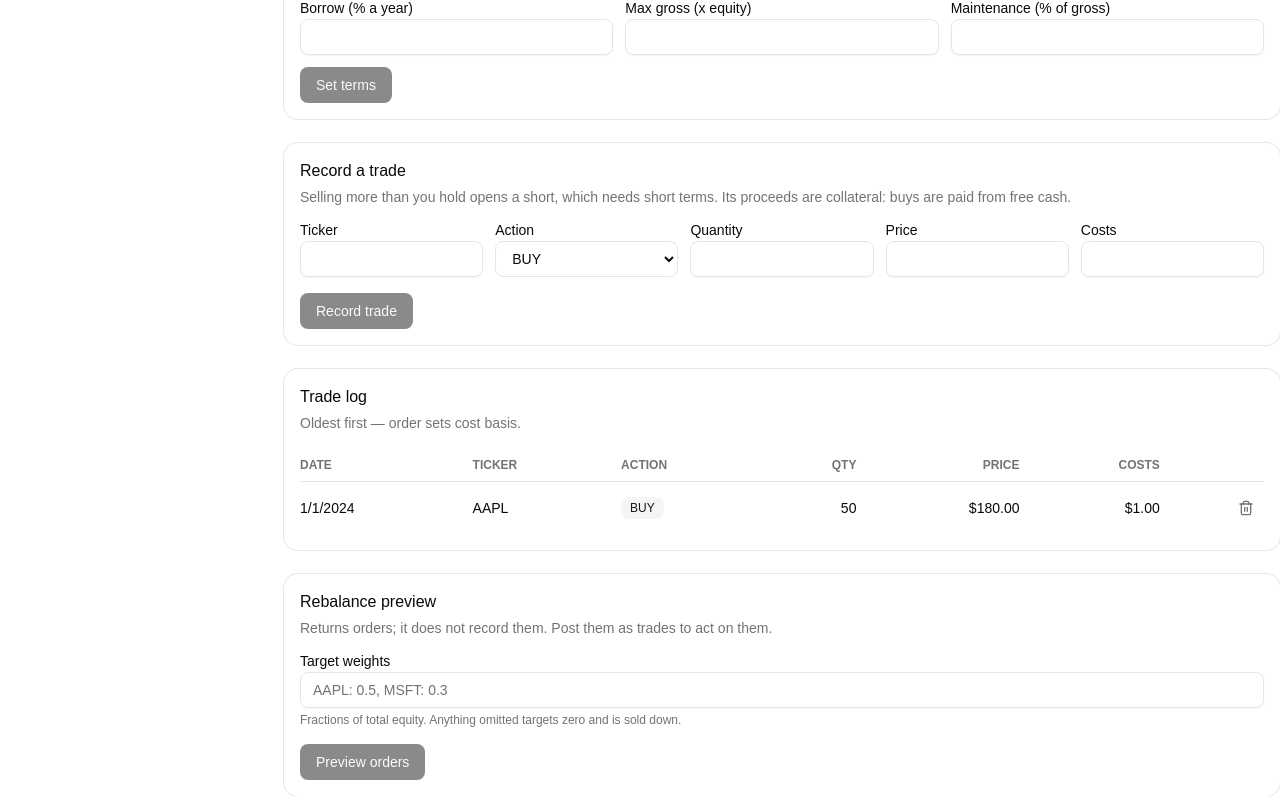
Test: PortfoliosPage — rebalancing › surfaces a rejected weight set
(page scrolled)
Type "A: 0.7, B: 0.7" into the field labelled "Target weights" at (782,690), box left=300, top=672, right=1264, bottom=708
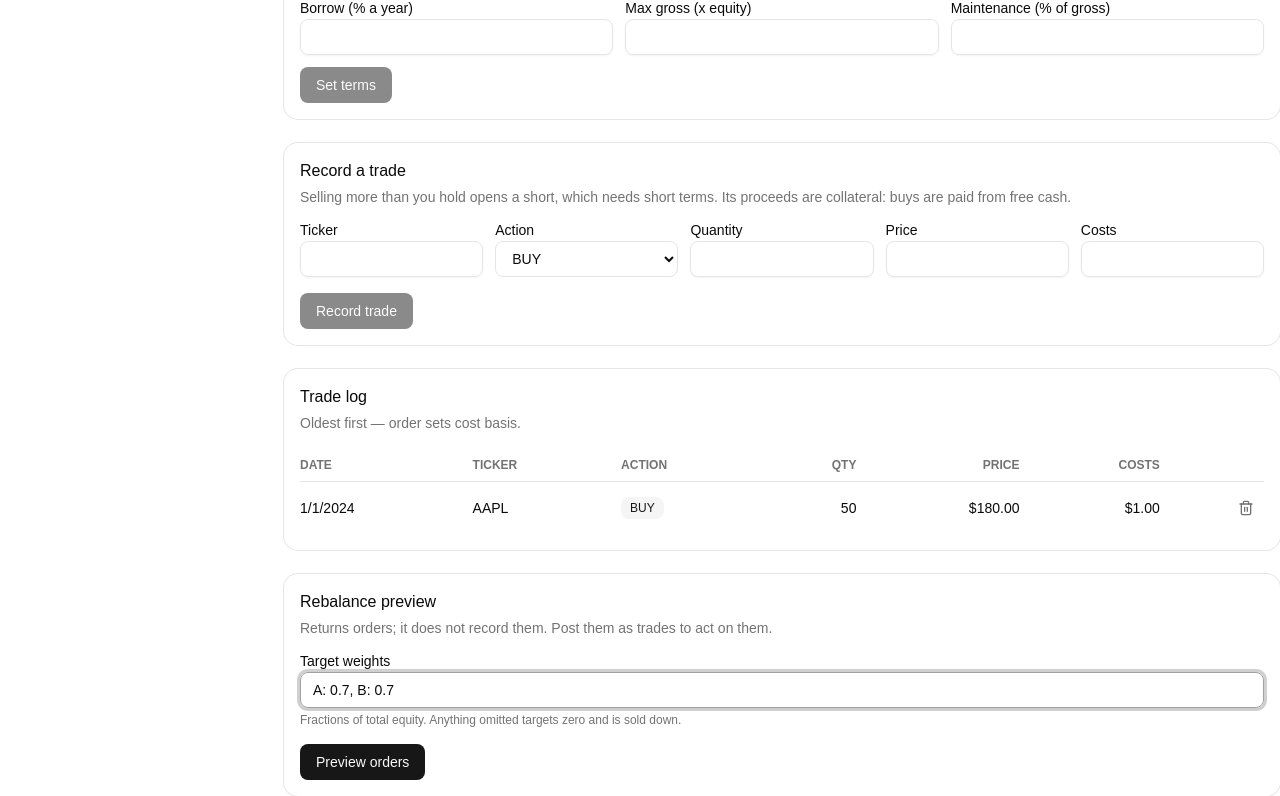
Click the button "Preview orders" at (363,762), box left=300, top=744, right=425, bottom=780
(page scrolled)
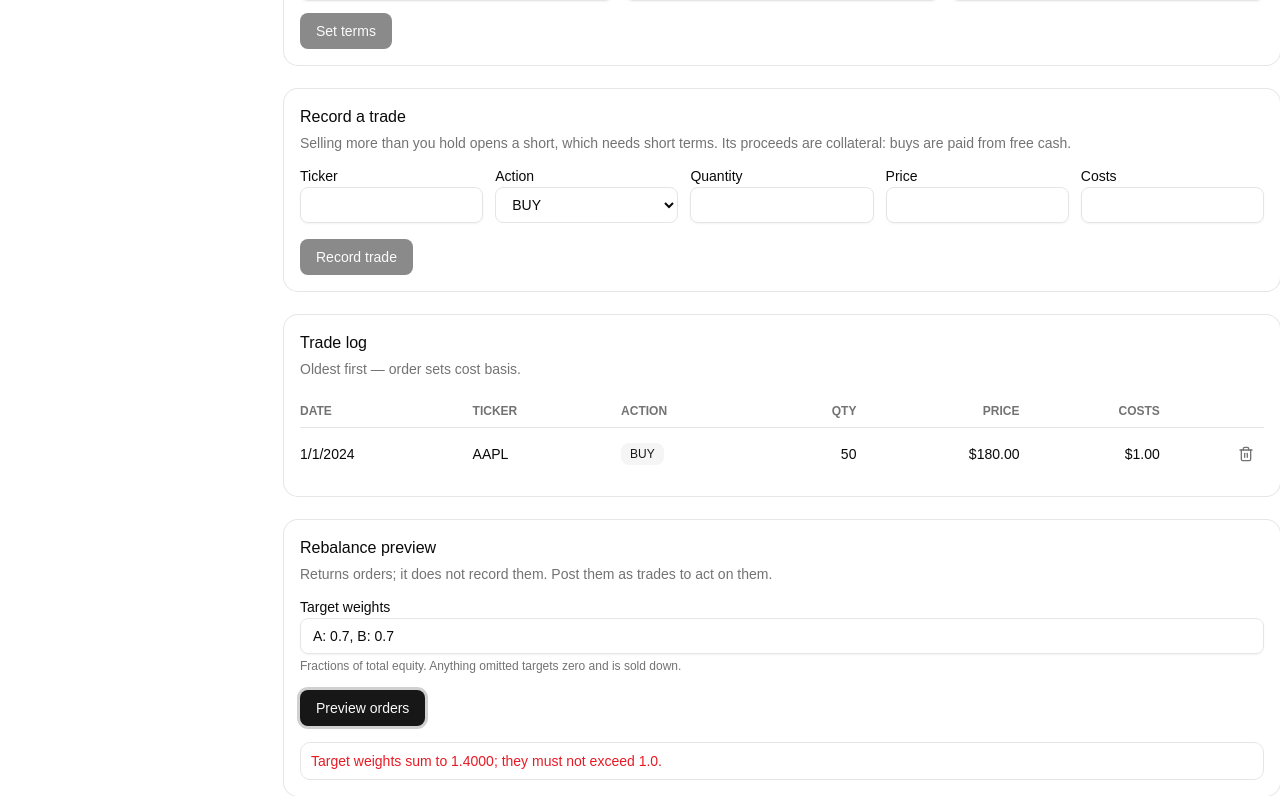
Check: the text "Target weights sum to 1.4000; they must not exceed 1.0." is shown, box left=311, top=753, right=662, bottom=769
